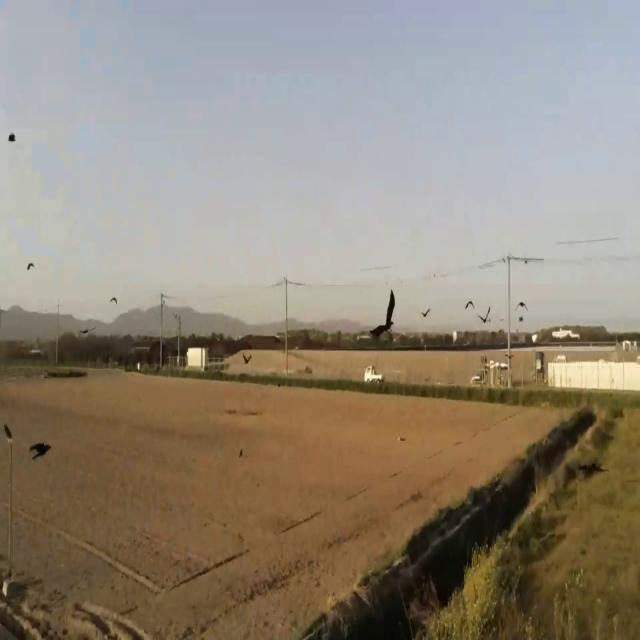bird: (29, 429, 51, 468), (383, 274, 395, 344), (478, 304, 491, 329), (3, 417, 14, 446), (516, 296, 528, 316), (464, 295, 474, 314), (421, 303, 430, 323), (8, 126, 16, 148), (26, 256, 34, 274), (110, 291, 118, 309)
